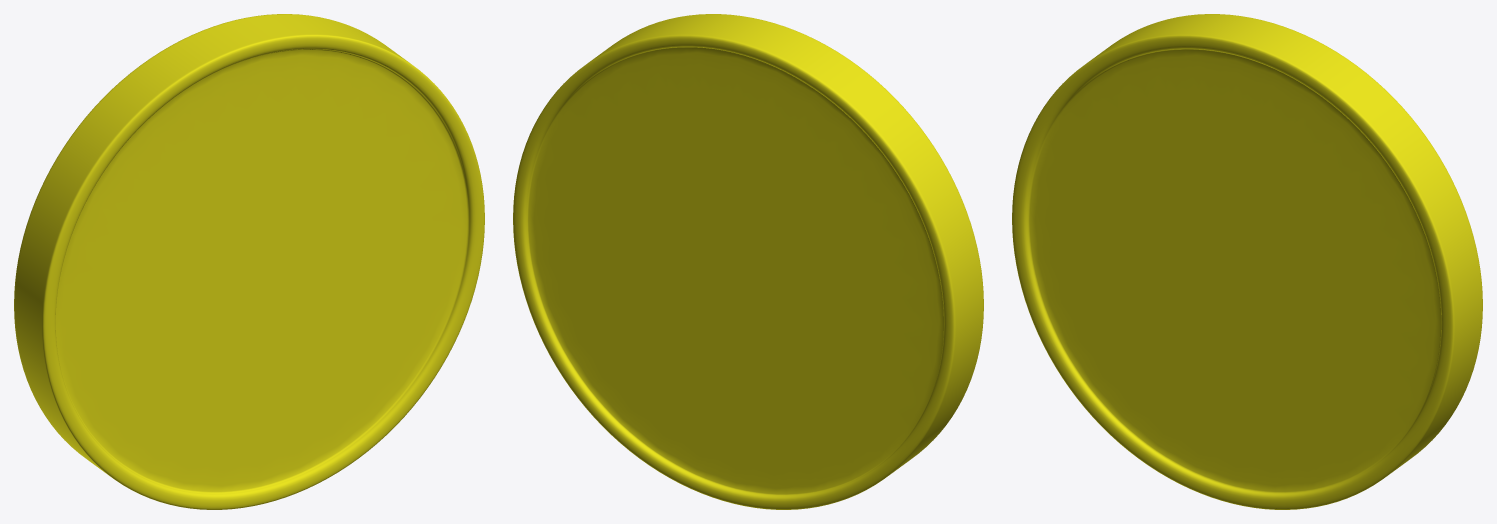
File: YellowStone.fbx
The picture shows the model from 3 angles, left to right: view 1: azimuth 30°, elevation 25°; view 2: azimuth 150°, elevation 25°; view 3: azimuth 330°, elevation 25°; orthographic projection.
Parts seen in each view (by area): view 1: YellowStone; view 2: YellowStone; view 3: YellowStone.
Part boxes in pixels (bbox=[...]): YellowStone: bbox=[14, 14, 484, 509]; YellowStone: bbox=[513, 14, 983, 509]; YellowStone: bbox=[1012, 14, 1482, 509].
Size of the model in its own units: 0.0475 by 0.0475 by 0.00573.
